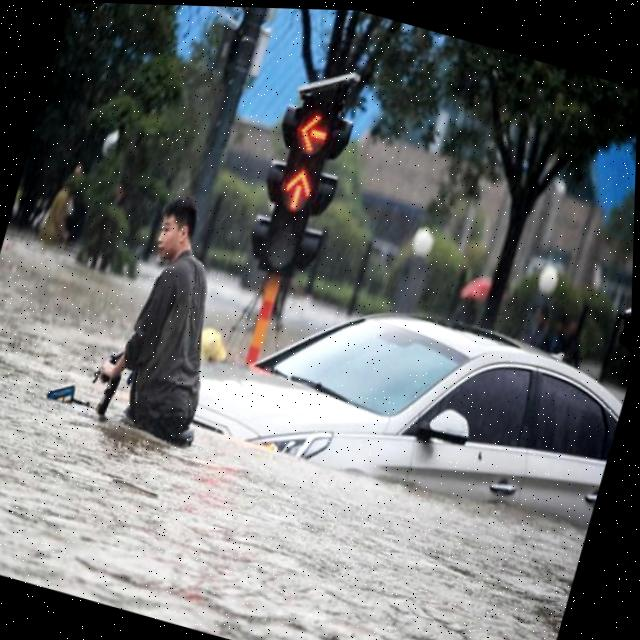civilian: (73, 173, 266, 463)
